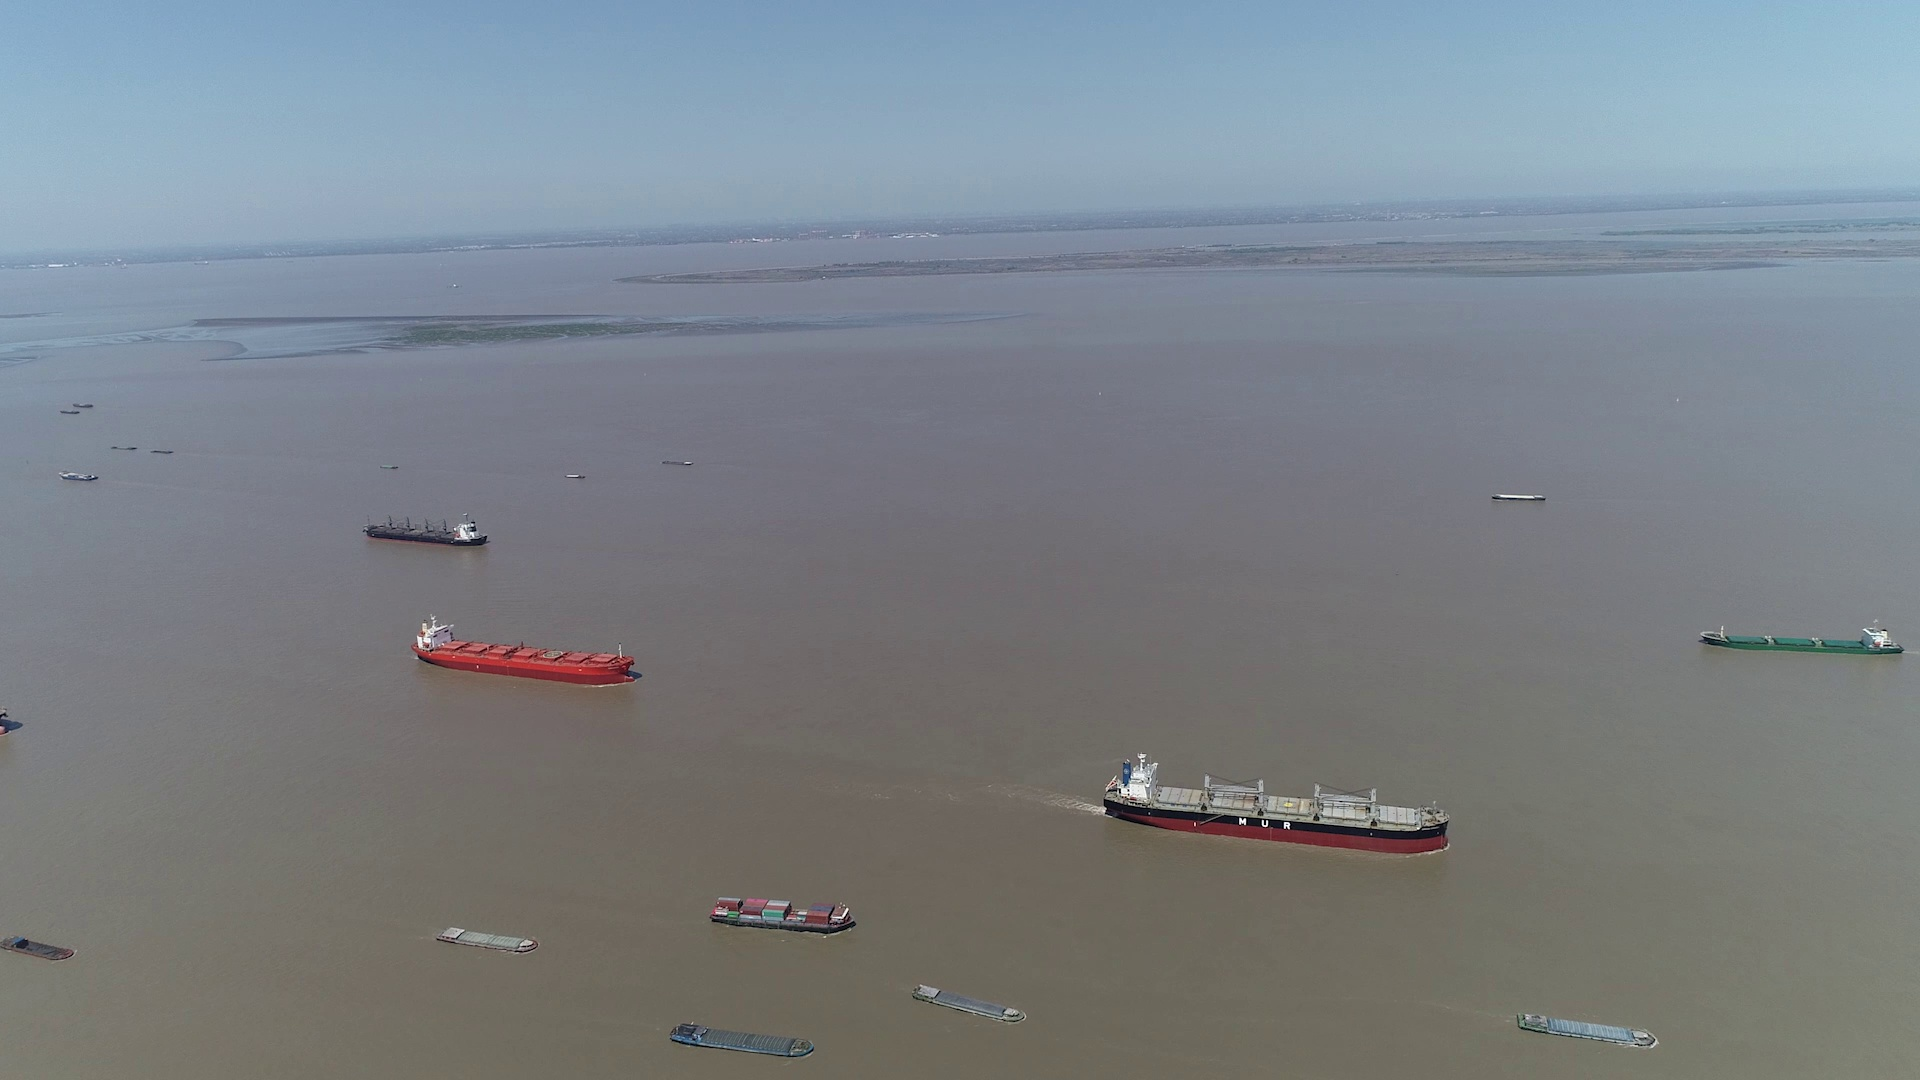ship: (1104, 754, 1449, 852), (411, 617, 634, 684), (1697, 626, 1909, 655), (709, 895, 857, 934), (1516, 1011, 1659, 1050), (670, 1025, 814, 1060), (913, 984, 1025, 1025), (363, 513, 485, 547), (435, 924, 538, 953), (3, 935, 74, 960), (1493, 492, 1547, 502), (58, 469, 98, 483), (564, 473, 584, 480)
